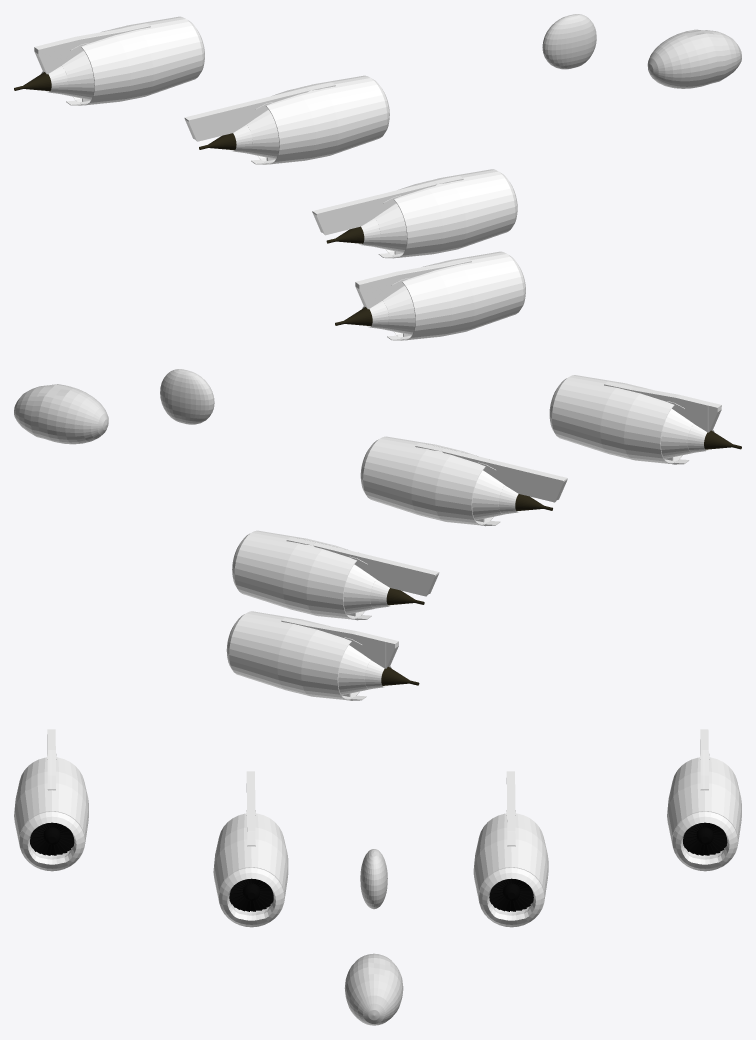
The picture shows the model from 3 angles, top to bottom: view 1: azimuth 30°, elevation 25°; view 2: azimuth 150°, elevation 25°; view 3: azimuth 270°, elevation 25°; orthographic projection.
Parts seen in each view (by area): view 1: 立方体.001, 立方体, 立方体.003, 立方体.002, 球, 球.001, 円柱.008, 円柱.011, 円柱.002, 円柱.004; view 2: 立方体.001, 立方体, 立方体.002, 立方体.003, 球, 球.001, 円柱.008, 円柱.011, 円柱.004, 円柱.002; view 3: 立方体.001, 立方体, 立方体.003, 立方体.002, 球, 円柱.001, 円柱.003, 円柱.006, 円柱.010, 球.001, 円柱.012, 円柱.009 (+2 smaller).
Boxes of the visible parts, x1,y1,x2,y2 form: 立方体.001: [312, 169, 514, 258]; 立方体: [184, 75, 386, 164]; 立方体.003: [355, 251, 522, 340]; 立方体.002: [34, 16, 201, 105]; 球: [647, 29, 741, 88]; 球.001: [542, 14, 596, 69]; 円柱.008: [14, 50, 94, 100]; 円柱.011: [335, 285, 415, 335]; 円柱.002: [326, 203, 406, 252]; 円柱.004: [199, 109, 279, 159]; 立方体.001: [363, 436, 567, 526]; 立方体: [235, 530, 439, 620]; 立方体.002: [229, 611, 398, 700]; 立方体.003: [552, 375, 721, 464]; 球: [14, 384, 108, 444]; 球.001: [160, 369, 214, 424]; 円柱.008: [338, 645, 419, 695]; 円柱.011: [661, 409, 741, 458]; 円柱.004: [343, 564, 424, 614]; 円柱.002: [472, 470, 552, 520]; 立方体.001: [213, 771, 288, 916]; 立方体: [473, 771, 548, 916]; 立方体.003: [14, 729, 88, 862]; 立方体.002: [667, 729, 741, 859]; 球: [344, 953, 403, 1025]; 円柱.001: [219, 867, 284, 927]; 円柱.003: [479, 867, 544, 927]; 円柱.006: [672, 811, 737, 871]; 円柱.010: [19, 811, 84, 871]; 球.001: [360, 849, 387, 909]; 円柱.012: [30, 822, 74, 855]; 円柱.009: [683, 822, 727, 855].
Bounding box in the file's own units: 22.54 × 5.44 × 24.84.
